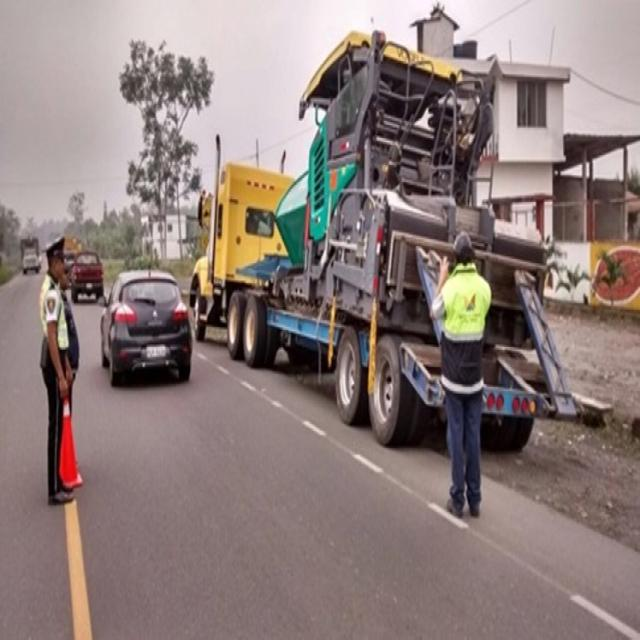SED: (100, 267, 194, 393)
TRUCK: (219, 163, 539, 445), (21, 236, 40, 276)
